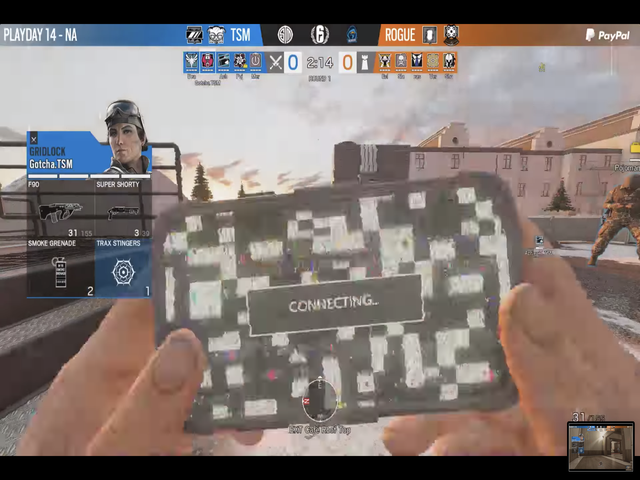0_blue: (283, 49, 302, 74)
